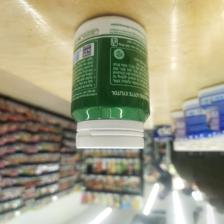Xylitol_green: (68, 18, 152, 150)
